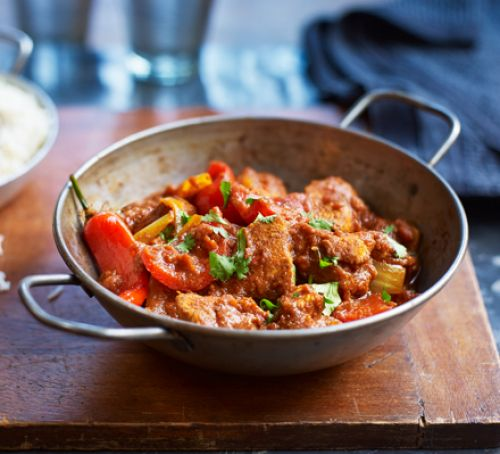chicken_curry: (88, 159, 439, 331)
